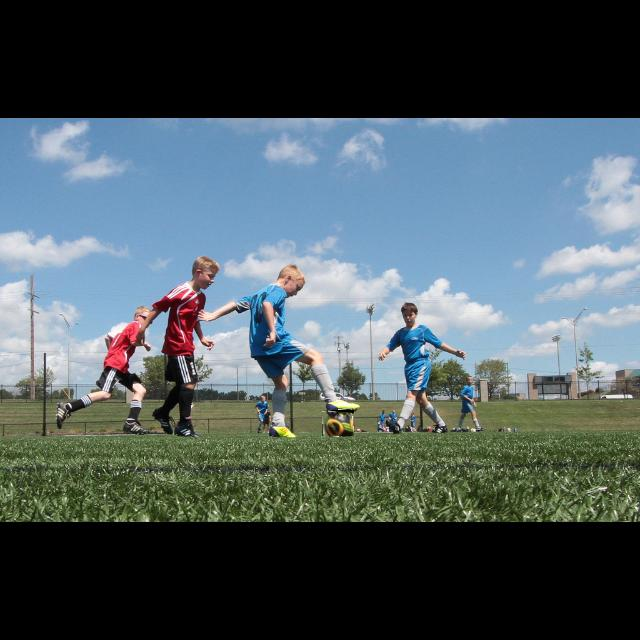Football: (322, 410, 354, 436)
